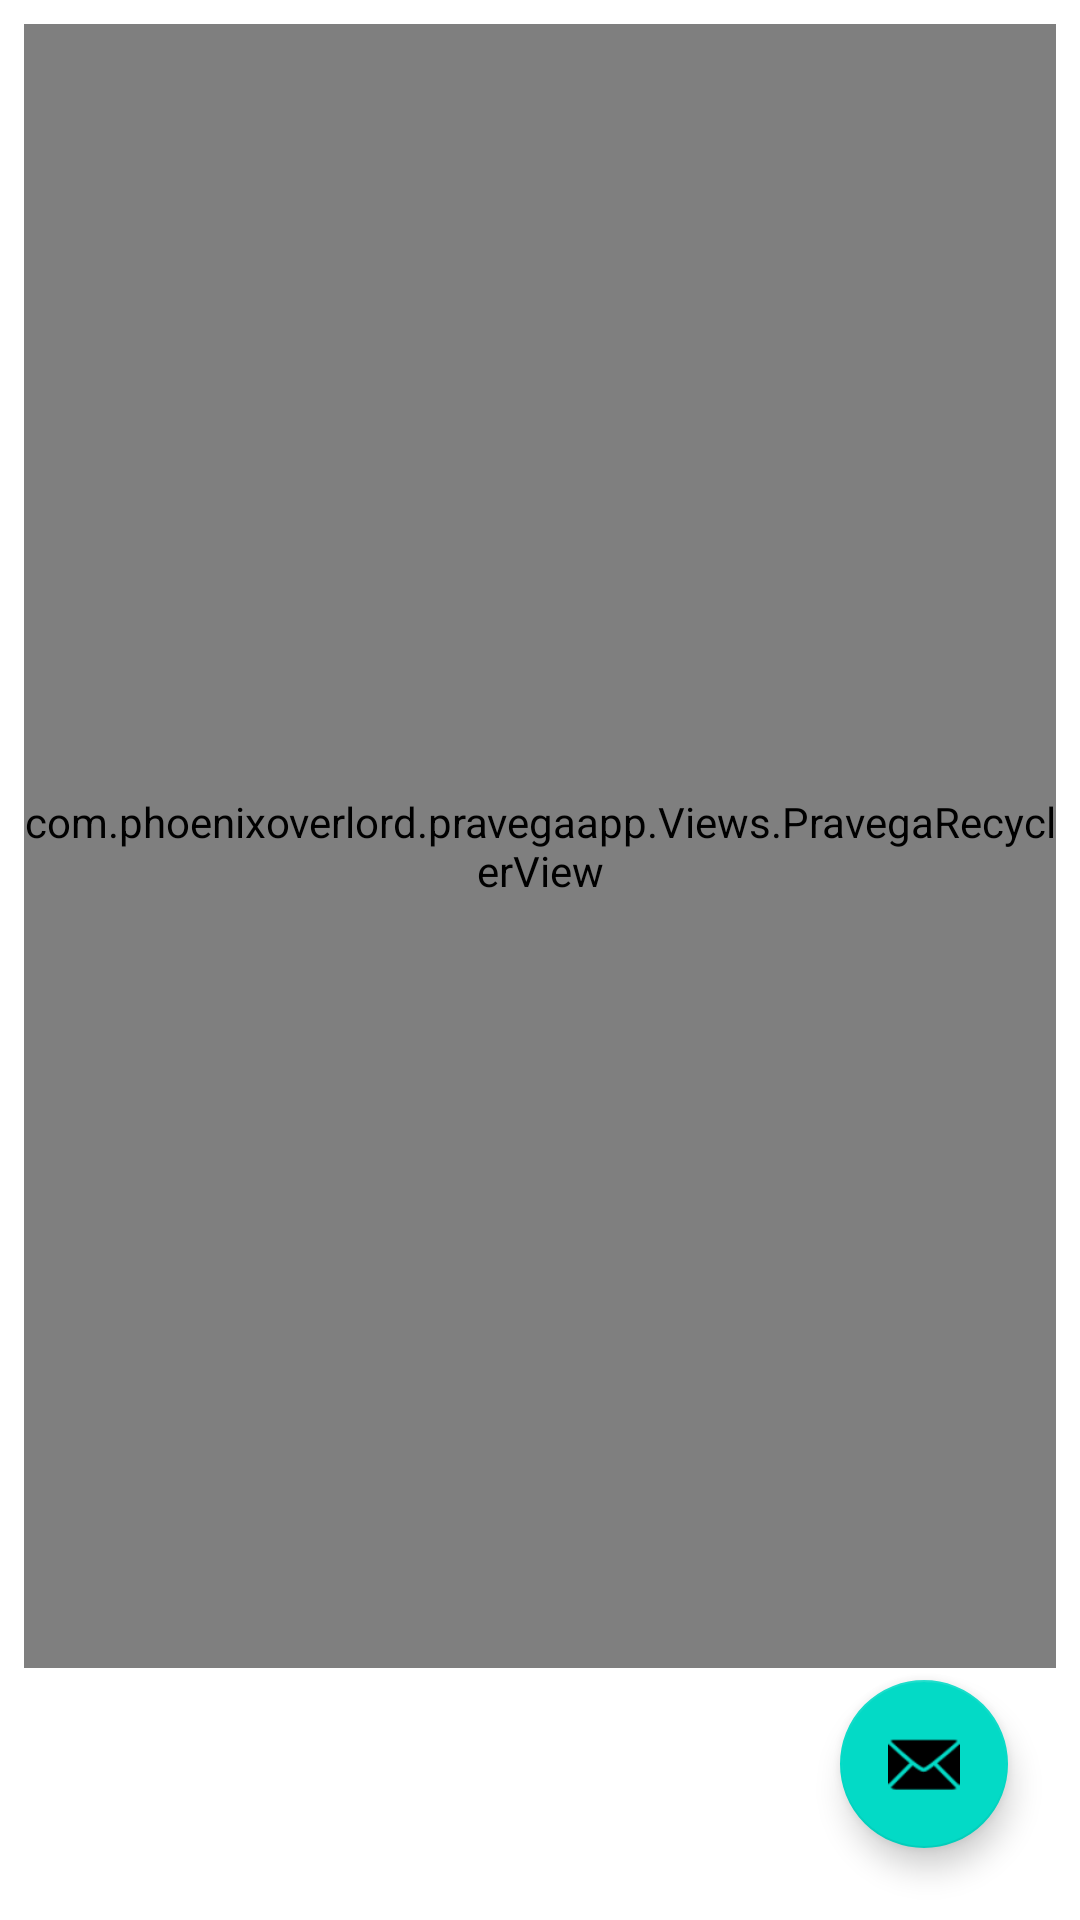

Screen size 1080w x 1920h. Icon name, then its box in pixels as (x1, y1, x2, y2):
email: (840, 1680, 1008, 1848)
